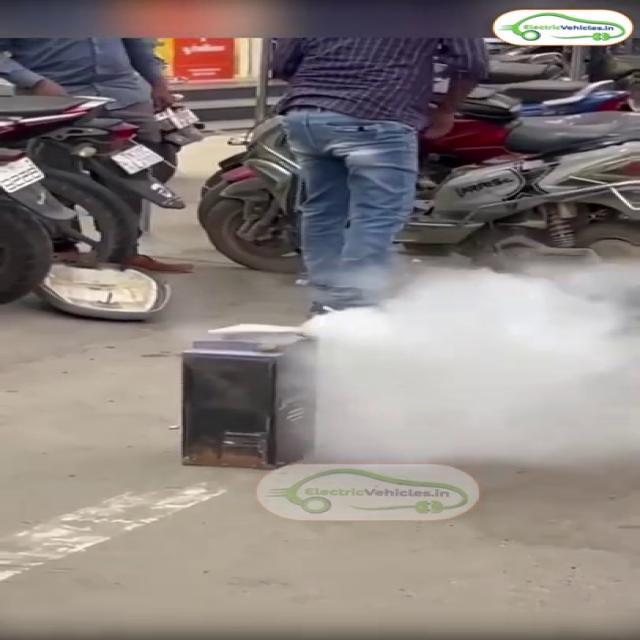Smoke: (290, 240, 640, 480)
